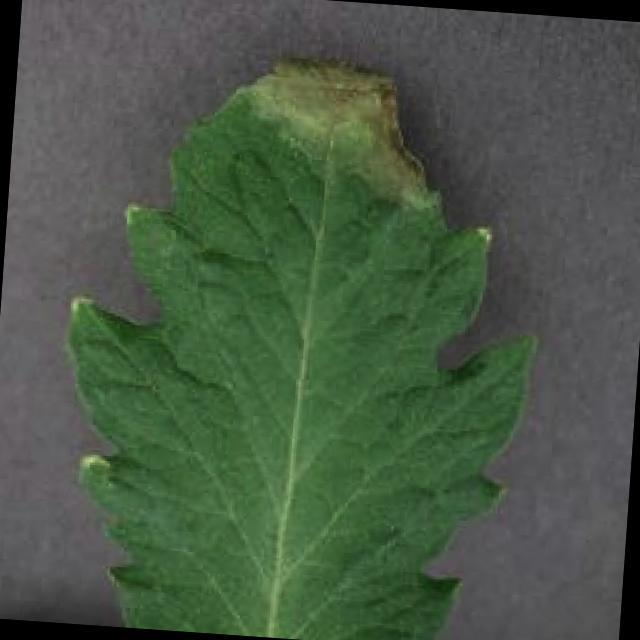Tomato late blight leaf: (43, 38, 563, 640)
